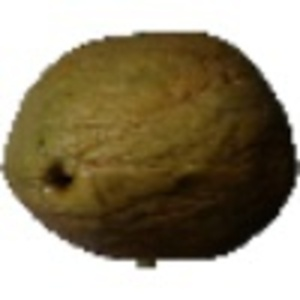mamão: (2, 42, 296, 259)
